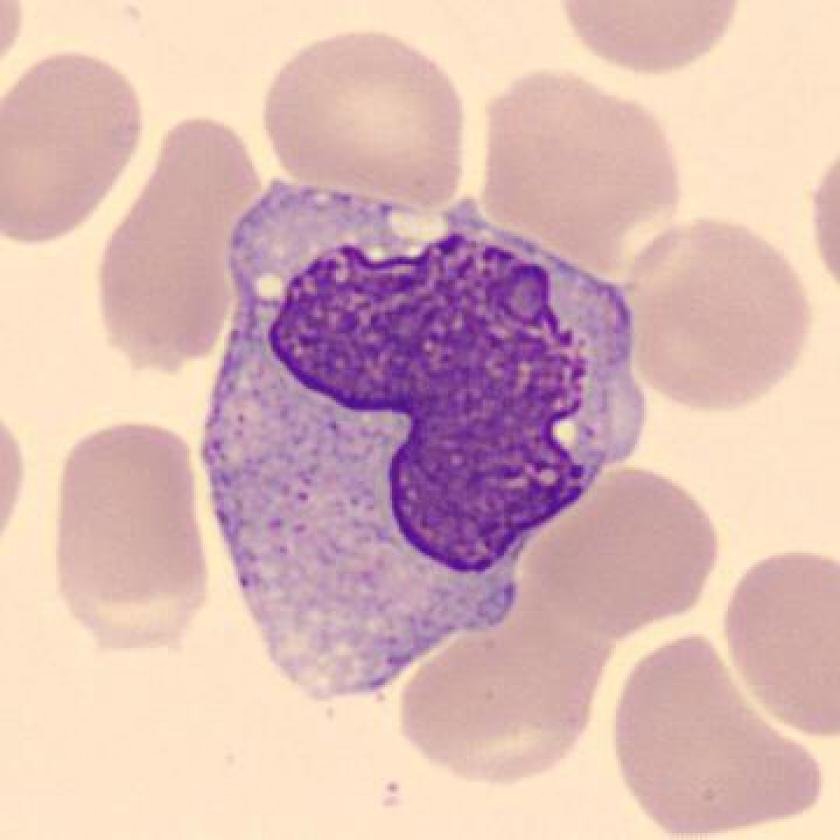monocyte: (185, 158, 664, 728), (785, 415, 787, 422)
